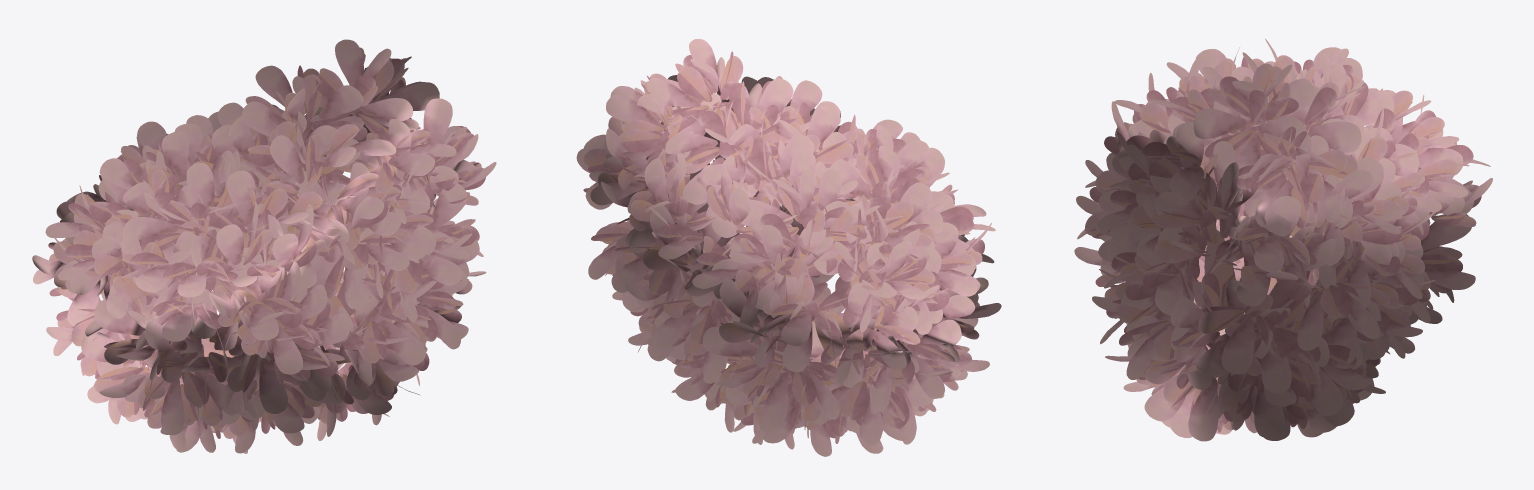
File: Mesh_Foliage7_feuille.fbx
3 views of the same model, side by side, from view 1: azimuth 30°, elevation 25°; view 2: azimuth 150°, elevation 25°; view 3: azimuth 270°, elevation 25° (orthographic). The views are drawn at different scales.
Visible parts, largest first — view 1: Plane042; view 2: Plane042; view 3: Plane042.
Part boxes in pixels (bbox=[...]): Plane042: bbox=[32, 39, 496, 453]; Plane042: bbox=[576, 39, 1001, 456]; Plane042: bbox=[1074, 38, 1492, 441].
Bounding box in the file's own units: 309 × 269 × 258.
